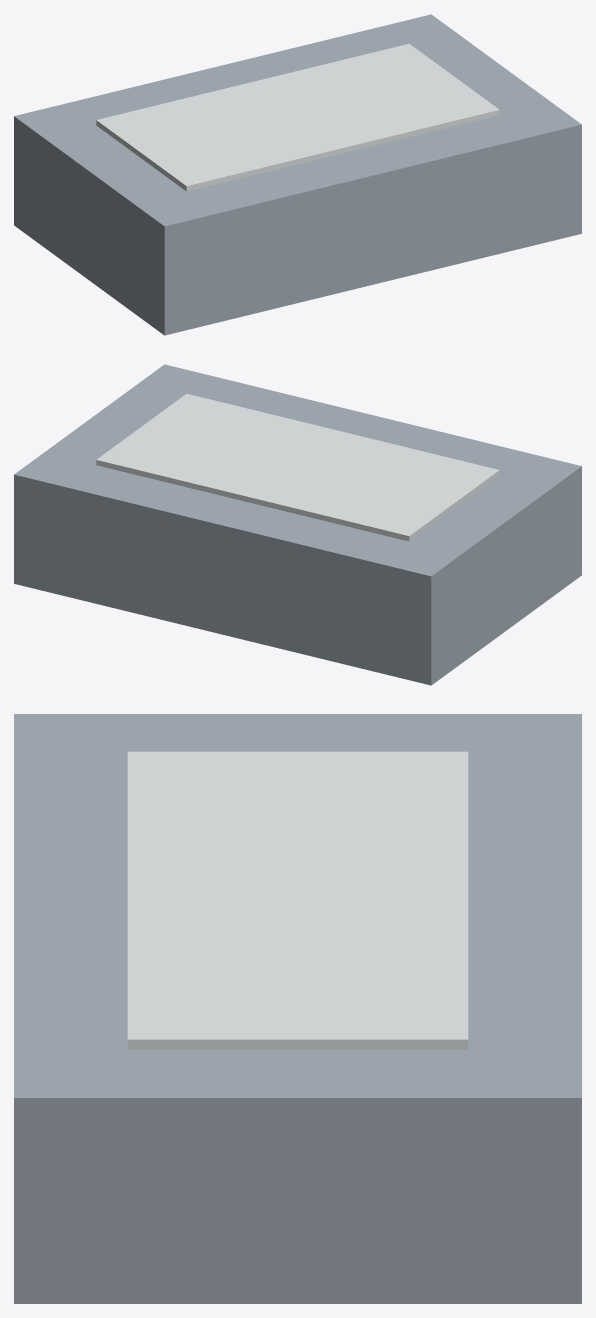
3 views of the same model, one above another, from view 1: azimuth 30°, elevation 25°; view 2: azimuth 150°, elevation 25°; view 3: azimuth 270°, elevation 25° (orthographic). The views are drawn at different scales.
Parts seen in each view (by area): view 1: 010_L106_Y1_000, 010_L106_Y1_001; view 2: 010_L106_Y1_000, 010_L106_Y1_001; view 3: 010_L106_Y1_000, 010_L106_Y1_001.
Boxes of the visible parts, x1,y1,x2,y2 form: 010_L106_Y1_000: [14, 14, 581, 335]; 010_L106_Y1_001: [96, 43, 499, 191]; 010_L106_Y1_000: [14, 364, 581, 685]; 010_L106_Y1_001: [96, 393, 499, 541]; 010_L106_Y1_000: [14, 714, 581, 1303]; 010_L106_Y1_001: [127, 751, 468, 1049].
Bounding box in the file's own units: 0.008 × 0.005 × 0.00218.
